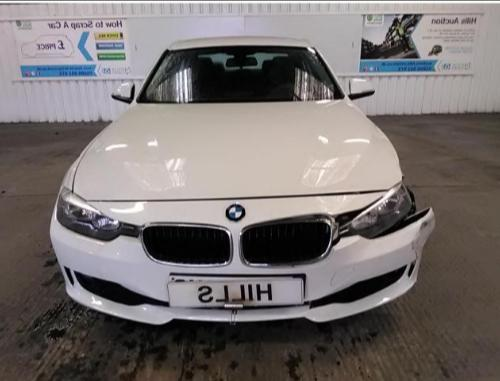Broken part: (49, 173, 436, 327), (236, 212, 338, 268), (348, 181, 416, 239), (329, 193, 385, 249)
Dent: (412, 215, 435, 259)
